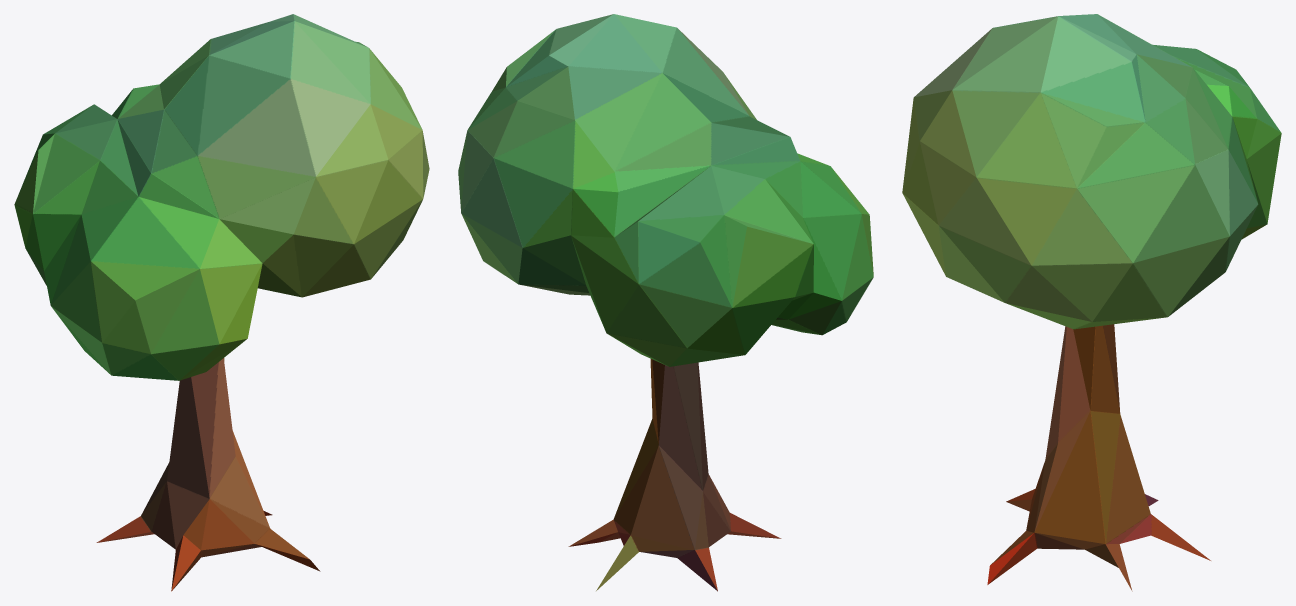
The model's file is PlainsTree1.fbx.
3 views of the same model, side by side, from view 1: azimuth 30°, elevation 25°; view 2: azimuth 150°, elevation 25°; view 3: azimuth 270°, elevation 25° (orthographic). The views are drawn at different scales.
Visible parts, largest first — view 1: Mesh_0; view 2: Mesh_0; view 3: Mesh_0.
Part boxes in pixels (box(x1,y1,x2,y2)): Mesh_0: box(14, 14, 429, 591); Mesh_0: box(458, 14, 873, 591); Mesh_0: box(902, 14, 1281, 591).
Bounding box in the file's own units: 132 × 183 × 110.
Materials: 1 (1 with a texture image).
